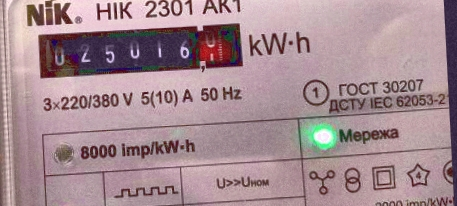0: (127, 36, 142, 60), (51, 44, 65, 67), (203, 27, 216, 48)
1: (152, 34, 164, 59), (206, 50, 214, 62)
2: (77, 40, 91, 63)
5: (102, 41, 114, 63)
6: (176, 35, 190, 61)
screen: (27, 12, 252, 85)
